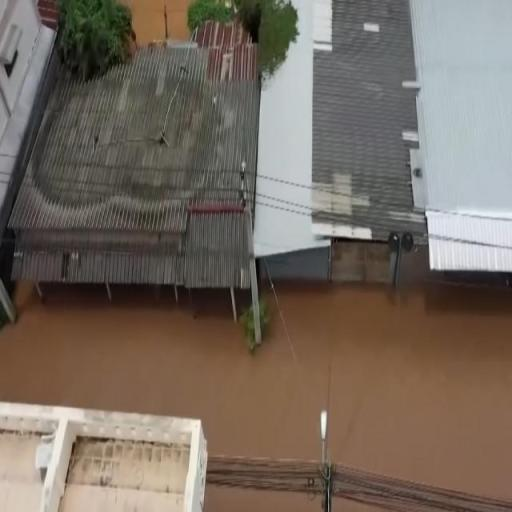flood: (0, 282, 512, 512)
house: (12, 398, 214, 512), (0, 0, 64, 210)
